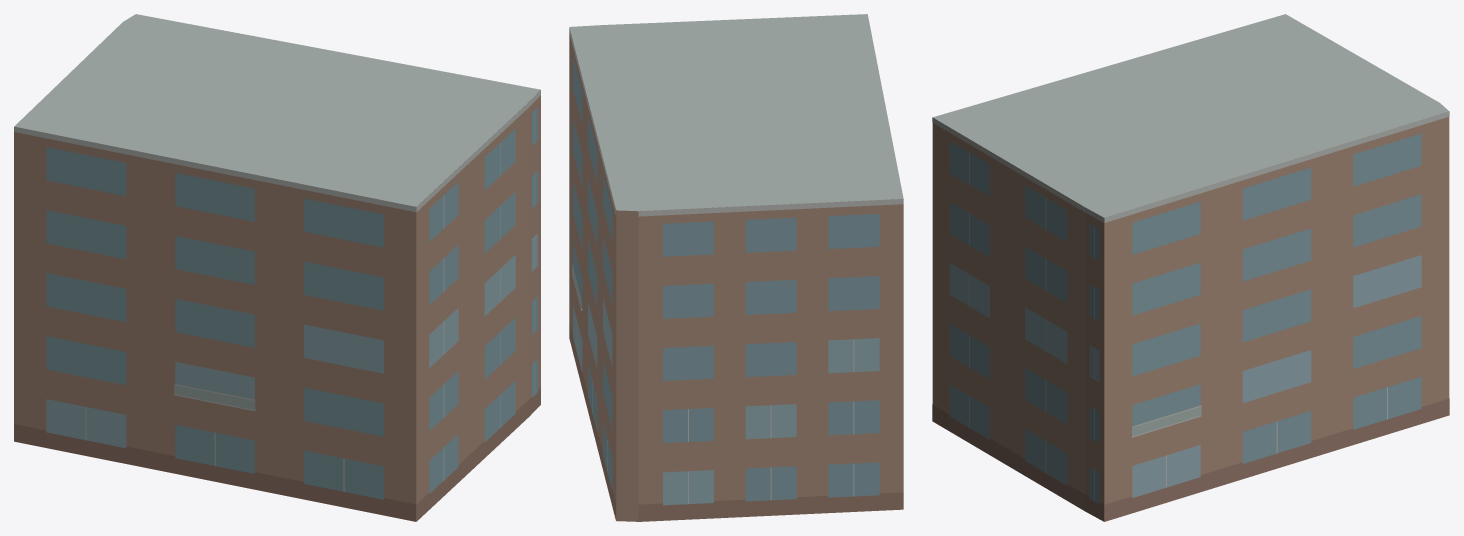
File: survey-upis-32639794.glb
3 views of the same model, side by side, from view 1: azimuth 30°, elevation 25°; view 2: azimuth 150°, elevation 25°; view 3: azimuth 270°, elevation 25° (orthographic). The views are drawn at different scales.
Visible parts, largest first — view 1: survey-upis-32639794.tmp; view 2: survey-upis-32639794.tmp; view 3: survey-upis-32639794.tmp.
Boxes of the visible parts, left/top/right/bottom form: survey-upis-32639794.tmp: left=14, top=14, right=540, bottom=521; survey-upis-32639794.tmp: left=569, top=14, right=903, bottom=521; survey-upis-32639794.tmp: left=932, top=14, right=1449, bottom=521.
Bounding box in the file's own units: 20.29 × 14.1 × 21.73.
